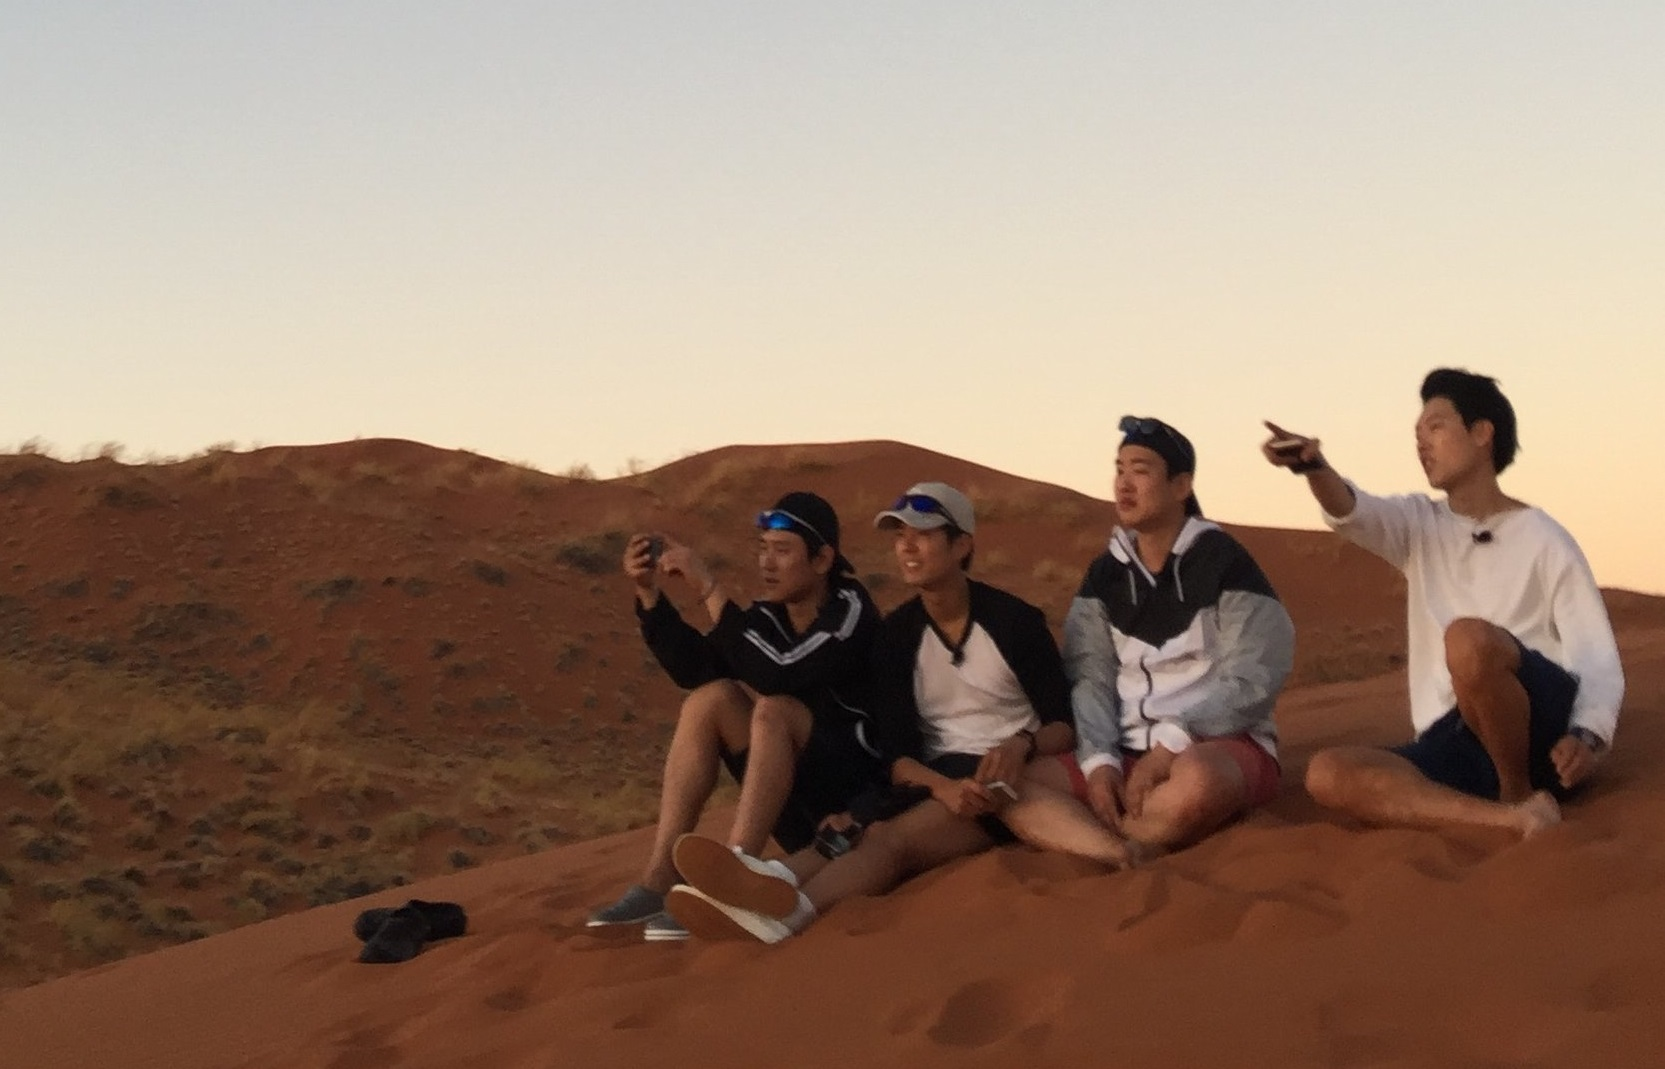people: (1307, 383, 1622, 830), (626, 488, 888, 866), (1057, 423, 1286, 840), (857, 476, 1062, 861)
